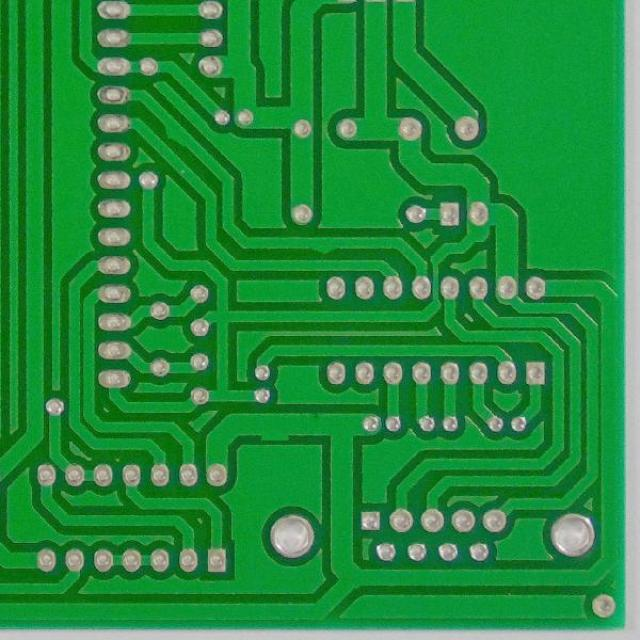Spur: (252, 408, 298, 445), (160, 119, 191, 148), (306, 233, 343, 256)
